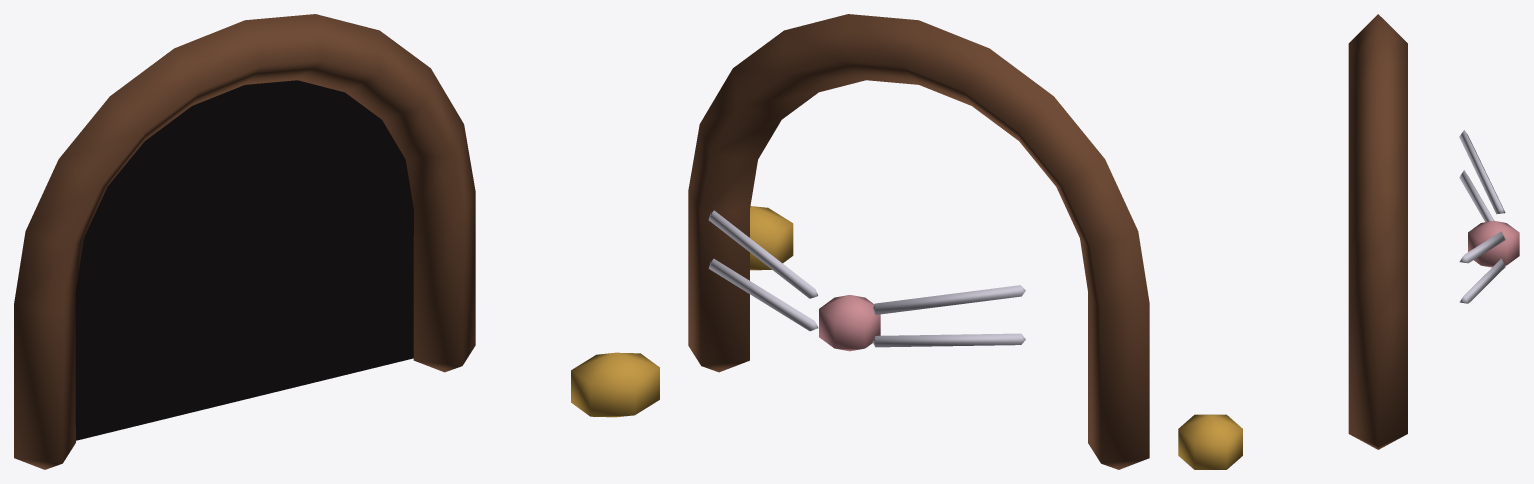
The model's file is mouse_hole.glb.
3 renders of one model, left to right at view 1: azimuth 30°, elevation 25°; view 2: azimuth 150°, elevation 25°; view 3: azimuth 270°, elevation 25°, orthographic. The views are drawn at different scales.
Visible parts, largest first — view 1: mouse_hole; view 2: mouse_hole, whiskers; view 3: mouse_hole, whiskers.
Boxes of the visible parts, x1,y1,x2,y2 form: mouse_hole: [14, 14, 659, 469]; mouse_hole: [688, 14, 1149, 469]; whiskers: [708, 210, 1025, 351]; mouse_hole: [1178, 14, 1407, 469]; whiskers: [1459, 130, 1519, 303].
Bounding box in the file's own units: 0.1387 × 0.0992 × 0.0916.
